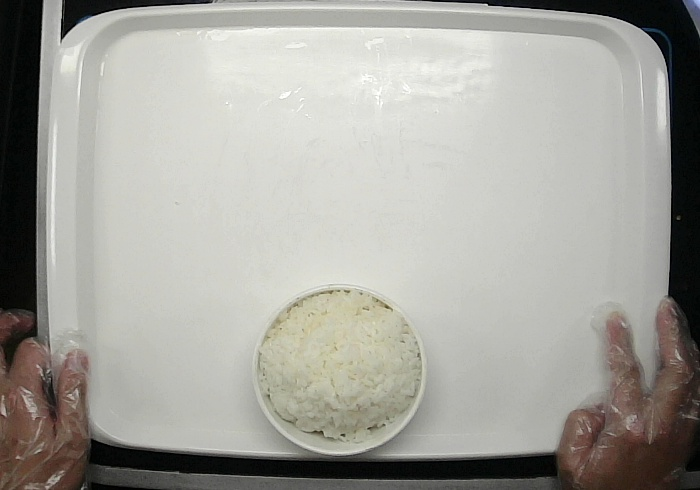HZYJPL-Fan_Wan: (252, 280, 428, 457)
